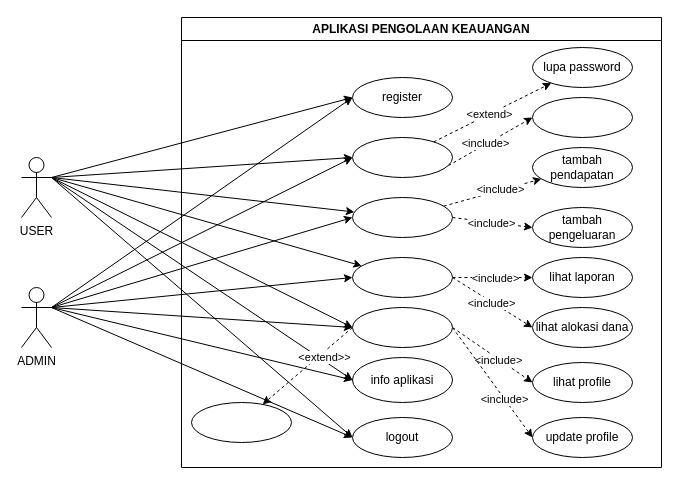
Image size: 679x485. Some labels were removed from this diagram. The box of each missing label's shape, as (x1, y1, x2, y2) in pixels:
dashboard: (532, 96, 632, 138)
kelola laporan: (352, 256, 452, 298)
kelola profile: (352, 306, 452, 348)
kelola transaksi: (352, 196, 452, 238)
login: (352, 136, 452, 178)
reset password: (190, 402, 292, 442)
